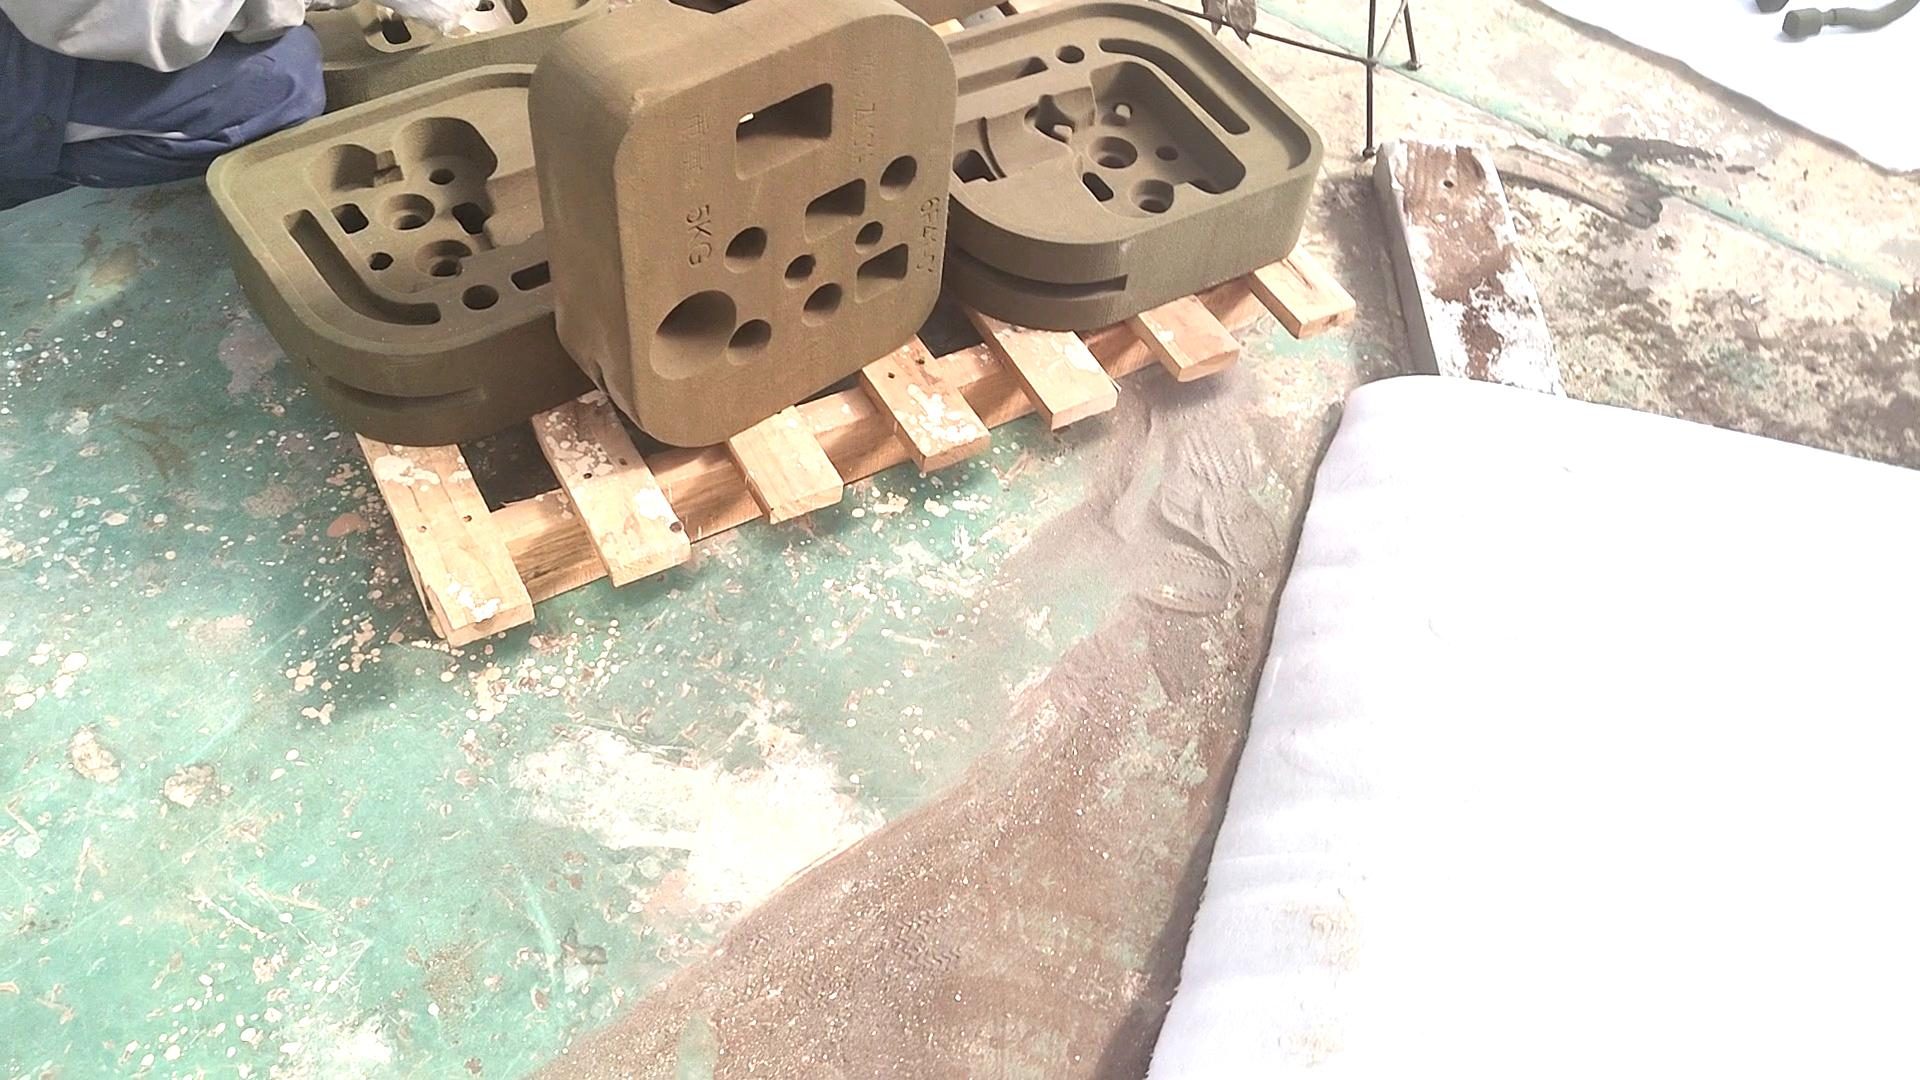pouring hole: (649, 289, 738, 378)
